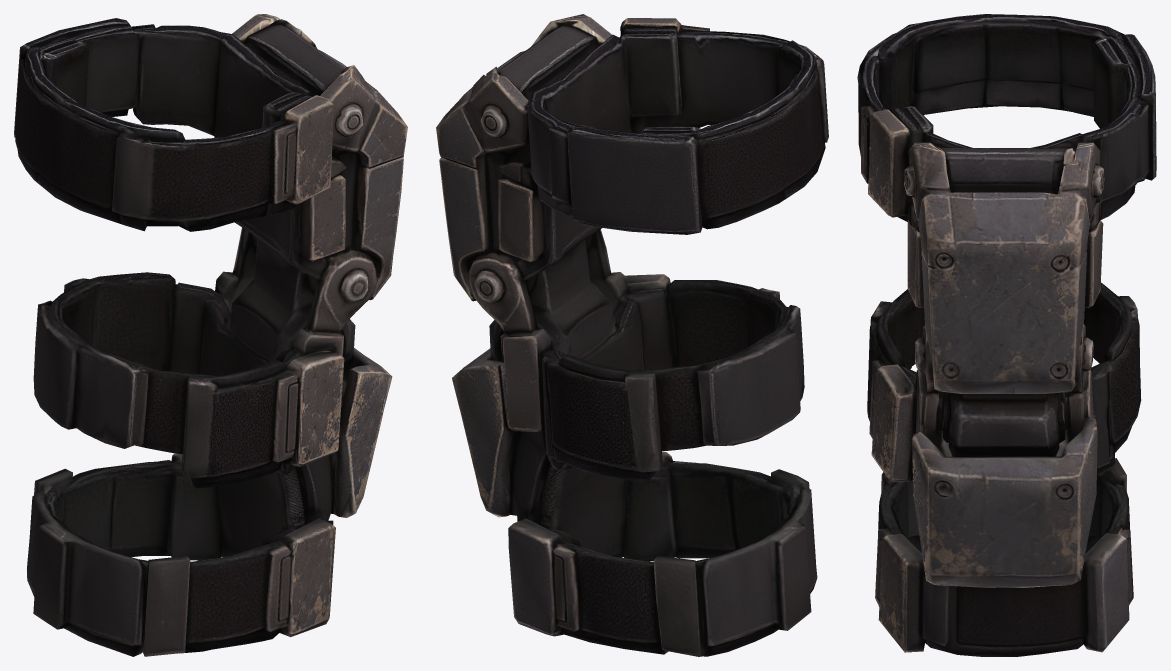
File: PROP-ARMOR-LEFT-BRACE.glb
The picture shows the model from 3 angles, left to right: view 1: azimuth 30°, elevation 25°; view 2: azimuth 150°, elevation 25°; view 3: azimuth 270°, elevation 25°; orthographic projection.
Parts seen in each view (by area): view 1: tripo_node_98939ba8-5a7f-4895-94e2-90f76dd807cc; view 2: tripo_node_98939ba8-5a7f-4895-94e2-90f76dd807cc; view 3: tripo_node_98939ba8-5a7f-4895-94e2-90f76dd807cc.
Part boxes in pixels (x1,y1,x2,y2): tripo_node_98939ba8-5a7f-4895-94e2-90f76dd807cc: [14, 14, 407, 656]; tripo_node_98939ba8-5a7f-4895-94e2-90f76dd807cc: [436, 14, 828, 656]; tripo_node_98939ba8-5a7f-4895-94e2-90f76dd807cc: [857, 14, 1156, 656].
Size of the model in its own units: 0.6339 by 1 by 0.5072.
1 material, 1 textured.
